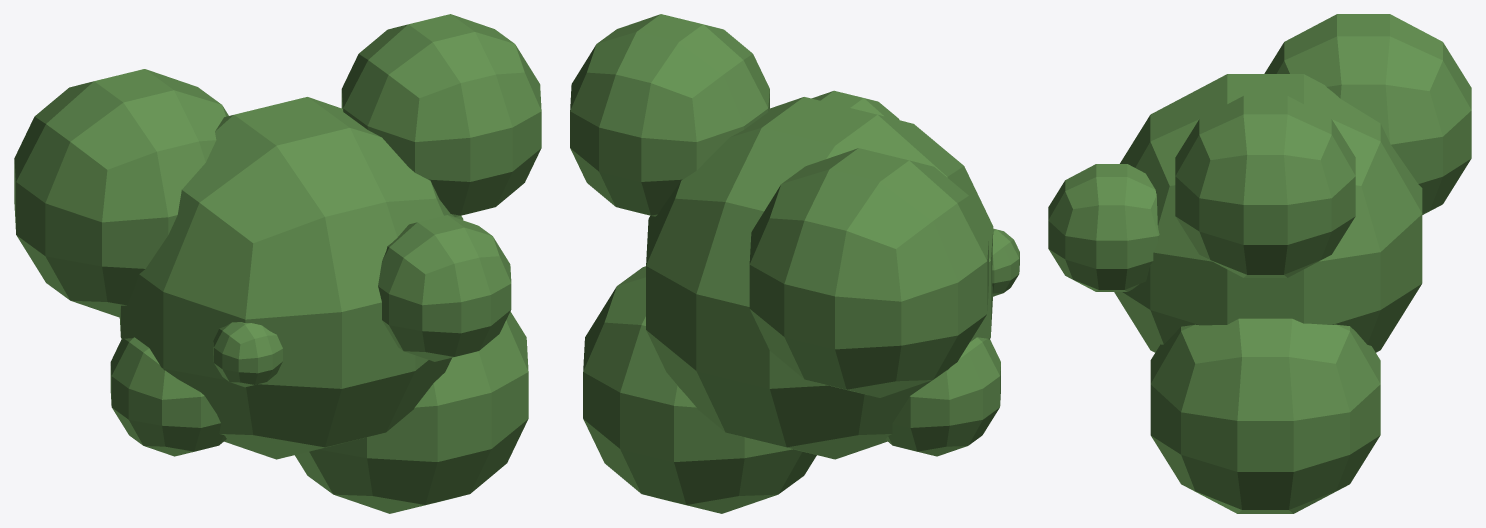
File: mold_projectile.fbx
3 views of the same model, side by side, from view 1: azimuth 30°, elevation 25°; view 2: azimuth 150°, elevation 25°; view 3: azimuth 270°, elevation 25° (orthographic). The views are drawn at different scales.
Parts seen in each view (by area): view 1: Mold; view 2: Mold; view 3: Mold.
Part boxes in pixels (bbox=[...]): Mold: bbox=[14, 14, 541, 513]; Mold: bbox=[570, 14, 1019, 513]; Mold: bbox=[1048, 14, 1471, 513].
Size of the model in its own units: 279 by 276 by 255.
